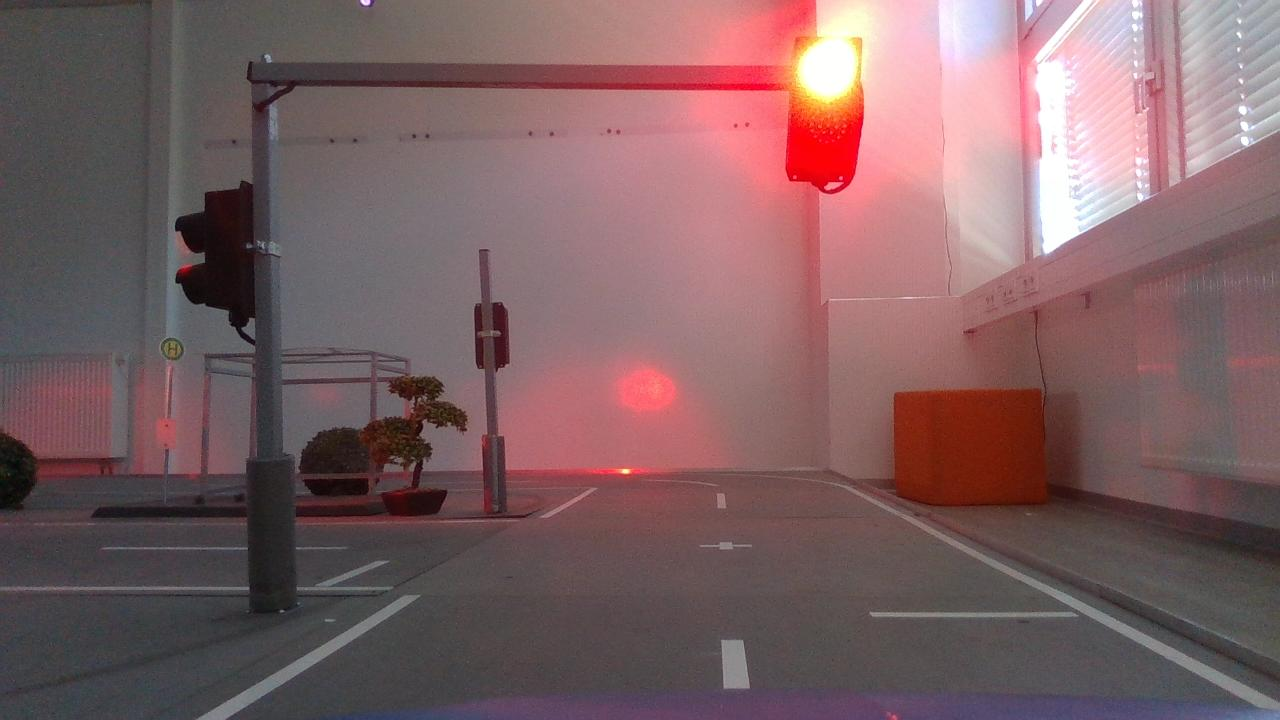traffic_light_red: (788, 14, 868, 205)
